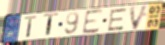9: (64, 12, 81, 35)
E: (81, 8, 104, 36), (106, 7, 129, 33)
T: (42, 12, 61, 39), (23, 14, 39, 40)
V: (128, 4, 150, 31)
